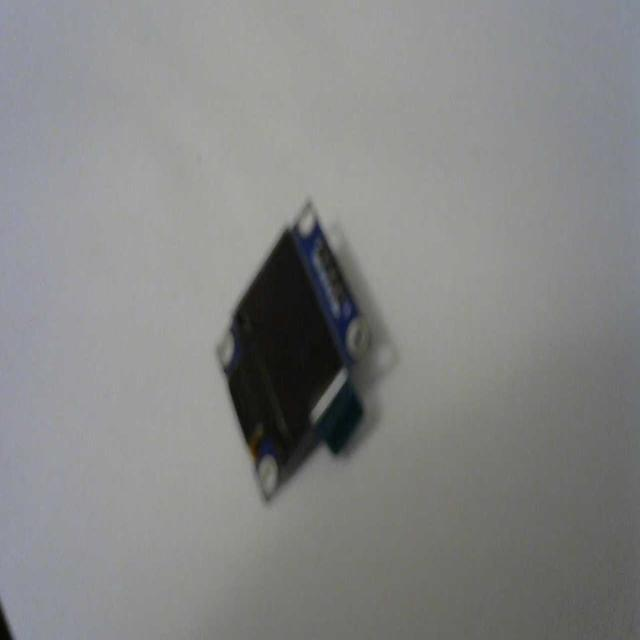oled: (207, 191, 387, 513)
